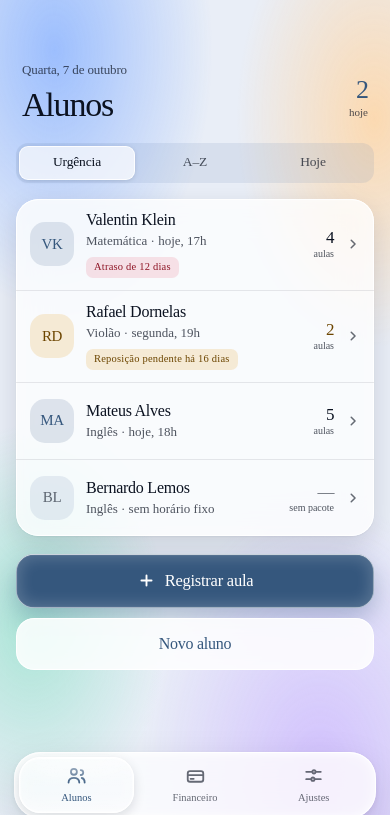
confirmar reposição › agendar direto não deixa a proposta antiga pendurada na ficha
Expected: the heading "Alunos" is shown, [22,86,113,122]
Click the button with aria-label "Rafael Dornelas. Reposição pendente há 16 dias. 2 aulas rest" at x=195, y=336, box [16,291,374,382]
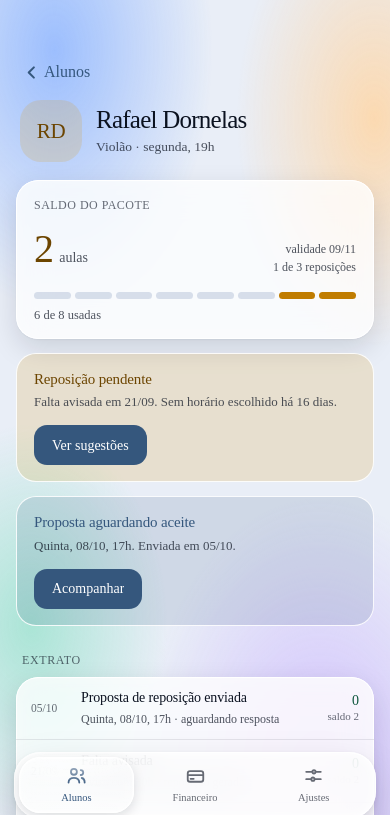
Expected: the text "Proposta aguardando aceite" is shown, [34,514,195,530]
Click the button "Ver sugestões" at x=90, y=445, box [34,425,147,465]
(page scrolled)
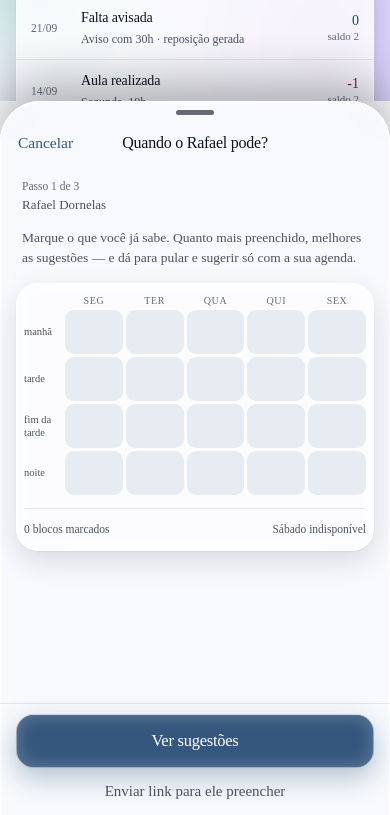
Click the button "Ver sugestões" at x=195, y=741, box [16,714,374,768]
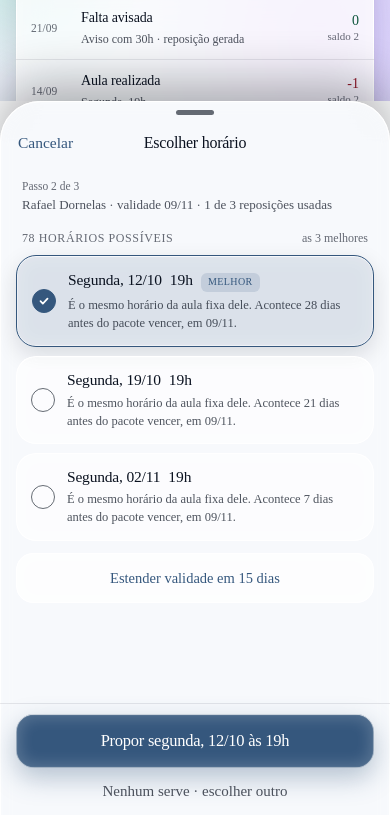
Click the button "Propor segunda, 12/10 às 19h" at x=195, y=741, box [16,714,374,768]
(page scrolled)
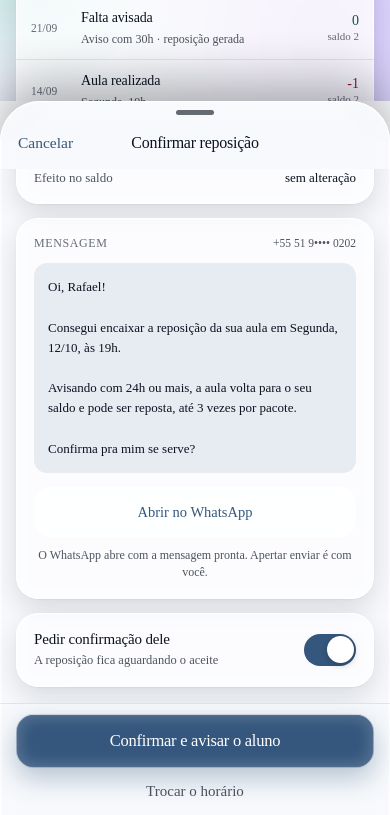
Click the switch named "Pedir confirmação dele" at x=330, y=650, box [304,634,356,666]
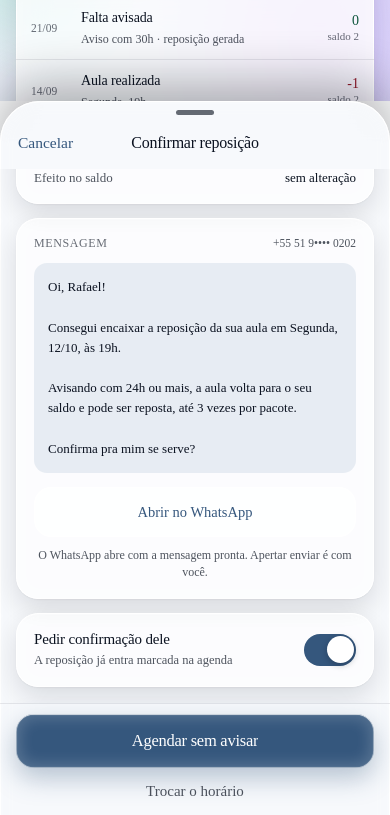
Click the button "Agendar sem avisar" at x=195, y=741, box [16,714,374,768]
(page scrolled)
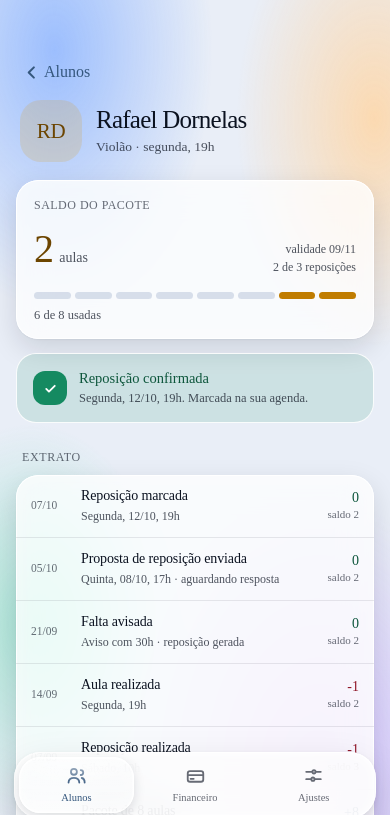
Expected: the text "Reposição confirmada" is shown, [79,370,209,386]
